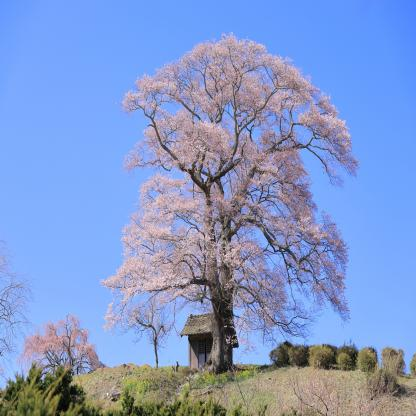EdohiganSakura: (101, 31, 361, 372), (17, 314, 106, 374)
